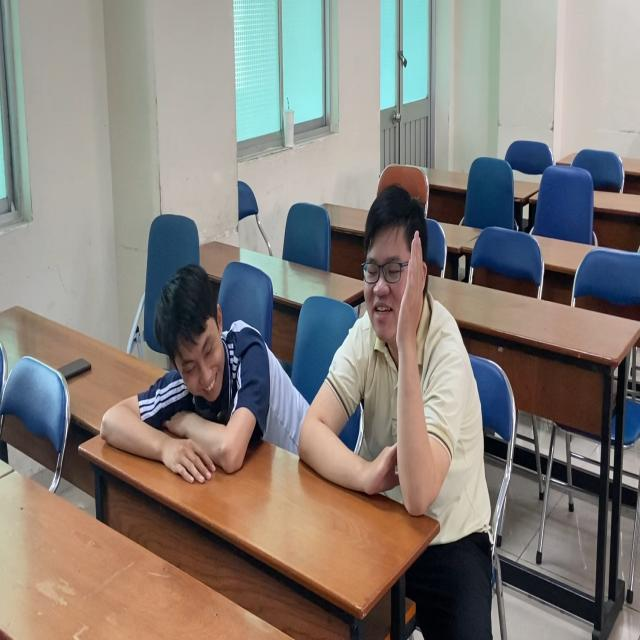raise_hand: (309, 171, 482, 530)
